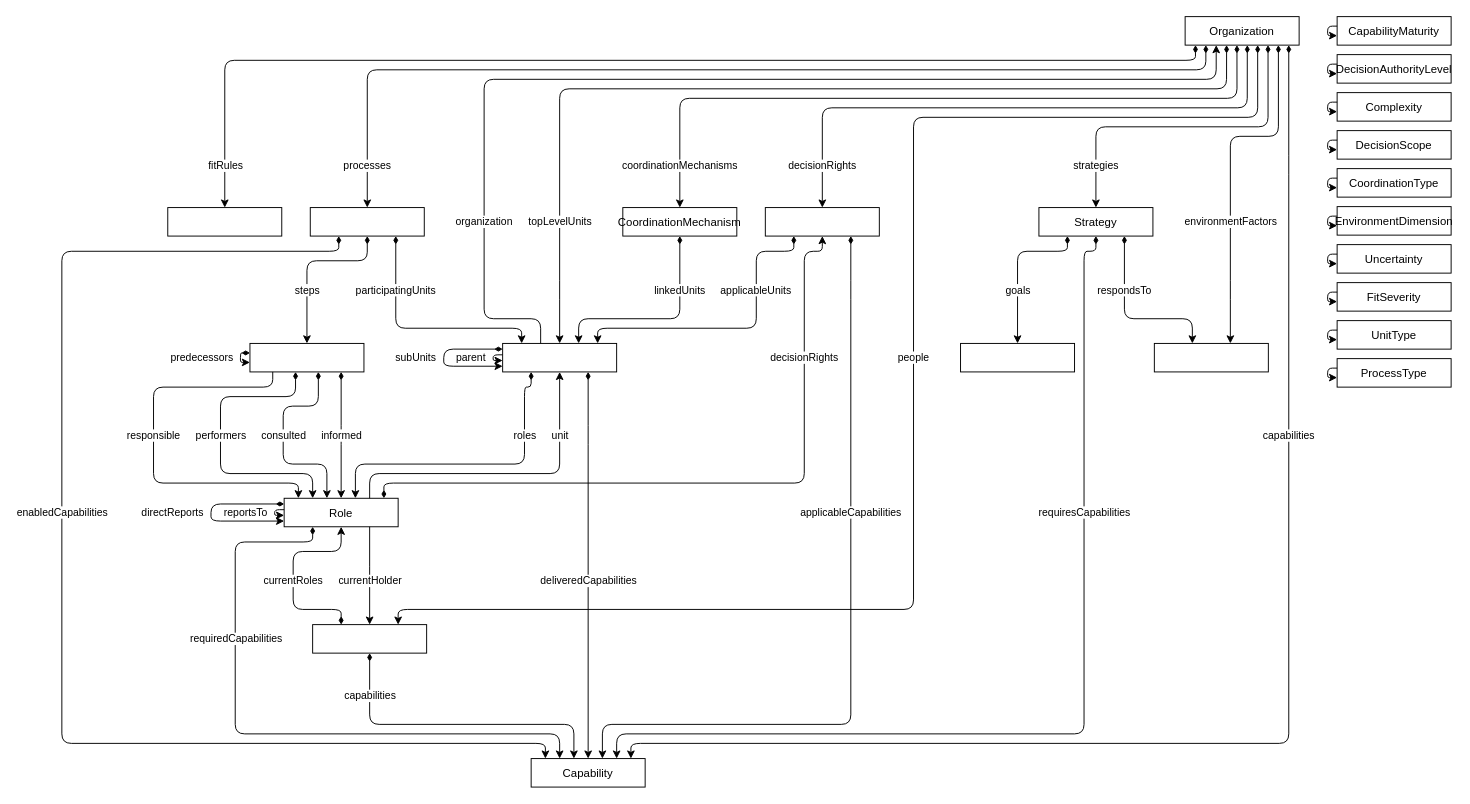
This 1470x804 diagram has some shape labels left out. Here are the shapes that lost their labels. From the top down, the centre of each, then its label:
the point at 224,221: FitRule
the point at 366,221: Process
the point at 821,221: DecisionRight
the point at 306,357: ProcessStep
the point at 559,357: OrganizationalUnit
the point at 1017,357: Goal
the point at 1210,357: EnvironmentFactor
the point at 369,638: Person
